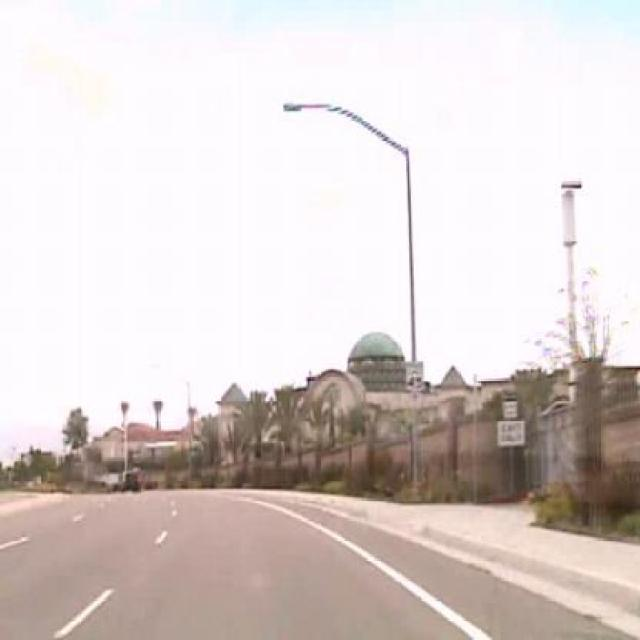speedLimit45: (404, 360, 424, 391)
